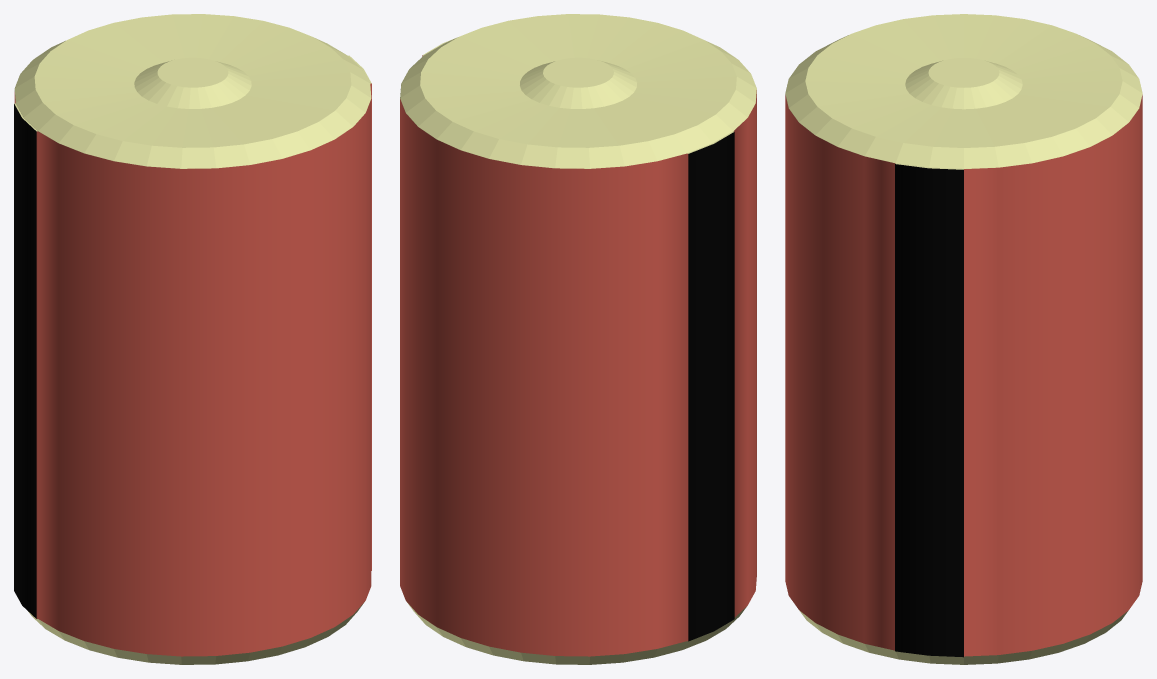
The picture shows the model from 3 angles, left to right: view 1: azimuth 30°, elevation 25°; view 2: azimuth 150°, elevation 25°; view 3: azimuth 270°, elevation 25°; orthographic projection.
Visible parts, largest first — view 1: 円柱; view 2: 円柱; view 3: 円柱.
Part boxes in pixels (x1,y1,x2,y2): 円柱: (14,14,371,664); 円柱: (400,14,756,664); 円柱: (785,14,1142,664).
Bounding box in the file's own units: 100 × 160 × 99.45.
